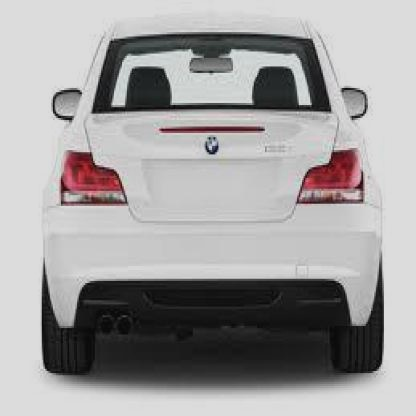Vehicle: (43, 24, 387, 380)
